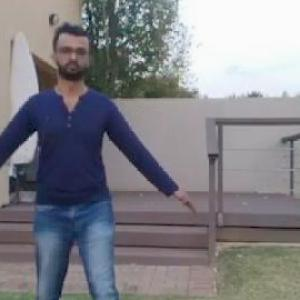land: (1, 48, 181, 299)
